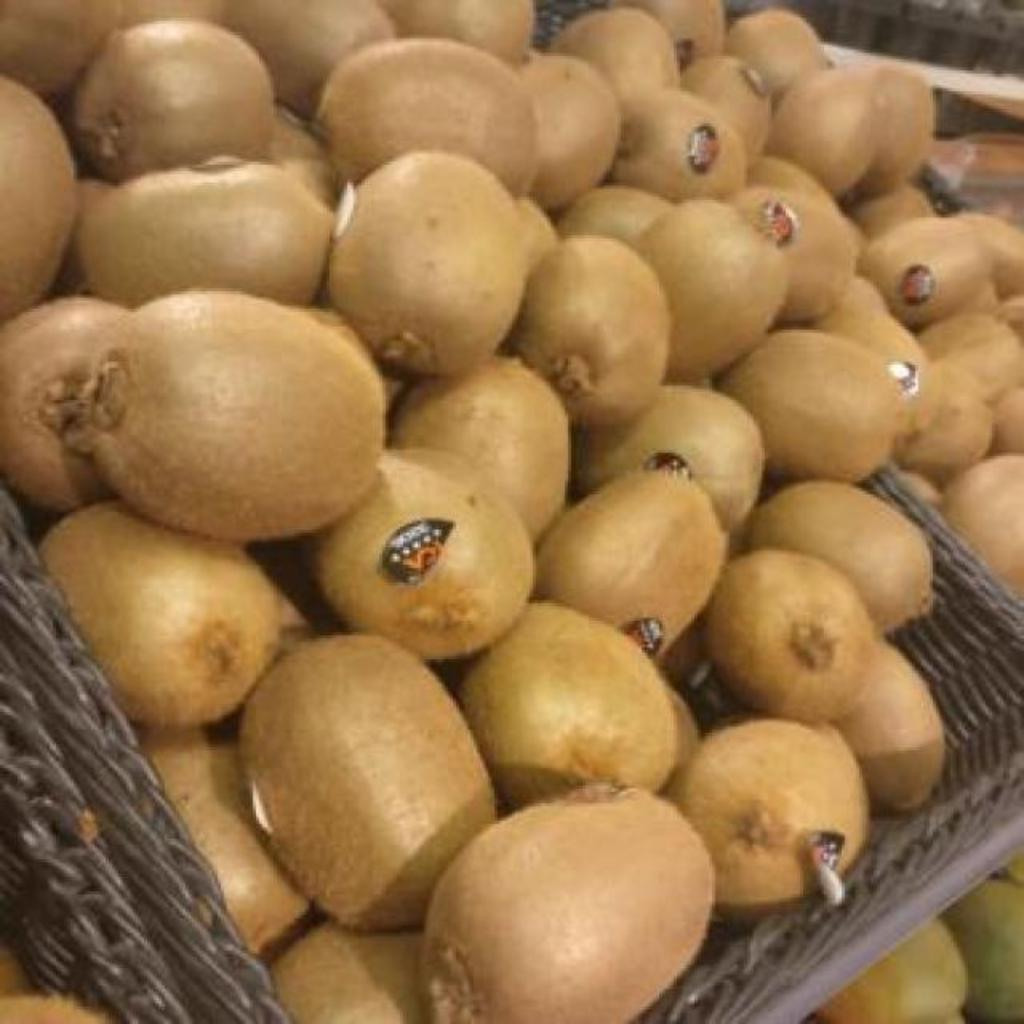kiwi: (240, 636, 494, 927), (96, 290, 384, 541), (430, 790, 714, 1023), (42, 502, 280, 727), (318, 450, 534, 658), (460, 602, 678, 805), (330, 152, 524, 375), (668, 718, 868, 909), (143, 730, 308, 953), (76, 162, 332, 305), (536, 470, 726, 655), (318, 38, 538, 193), (392, 358, 570, 539), (72, 20, 274, 179), (706, 548, 878, 721), (512, 236, 666, 423), (636, 198, 788, 383), (751, 480, 932, 631), (0, 296, 128, 509), (722, 332, 902, 481), (586, 386, 764, 531), (768, 64, 930, 195), (226, 0, 394, 117), (816, 276, 930, 437), (2, 76, 76, 321), (838, 638, 944, 809), (728, 186, 856, 321), (518, 54, 620, 211), (272, 924, 426, 1024), (612, 88, 748, 201), (860, 220, 996, 329), (766, 70, 874, 193), (894, 362, 992, 483), (554, 8, 680, 101), (942, 454, 1024, 595), (0, 0, 121, 95), (726, 8, 828, 103), (380, 0, 533, 63), (682, 56, 772, 161), (918, 312, 1024, 401), (612, 0, 723, 65), (558, 186, 674, 243), (957, 216, 1024, 297), (852, 184, 935, 237), (517, 198, 558, 275), (992, 388, 1024, 453)
